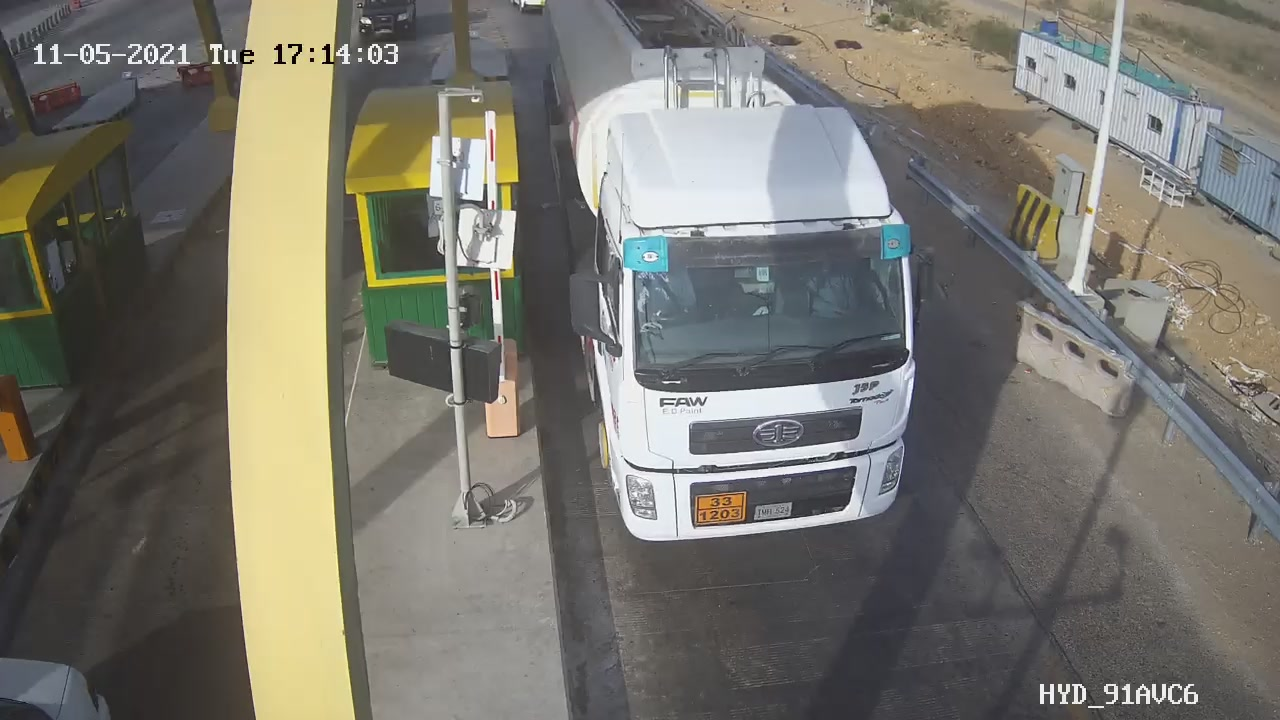F6: (531, 4, 966, 565)
